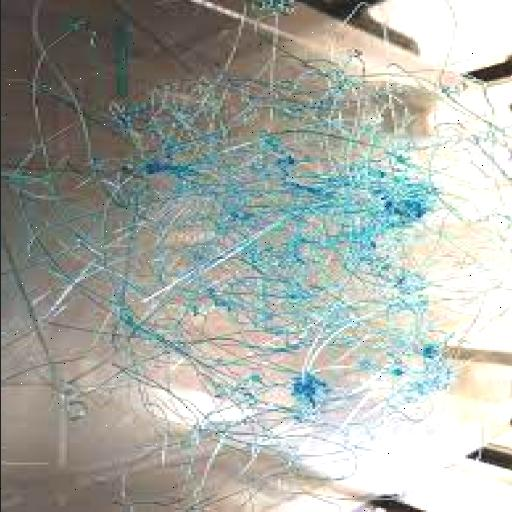spaghetti: (76, 42, 483, 442)
